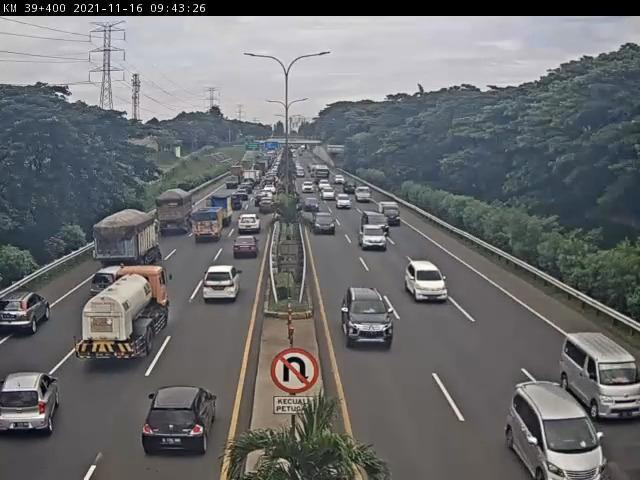car: (496, 369, 607, 480), (552, 322, 640, 431), (134, 379, 234, 463), (1, 362, 69, 441), (338, 285, 402, 354), (2, 277, 57, 351), (399, 257, 452, 305), (201, 263, 246, 312), (87, 257, 132, 302), (357, 225, 395, 258), (227, 236, 263, 267), (359, 211, 395, 240), (229, 215, 271, 239), (379, 198, 408, 225), (77, 242, 102, 273), (312, 206, 339, 233), (255, 194, 280, 218), (303, 191, 324, 213), (352, 184, 375, 202), (331, 188, 352, 207)
truck: (76, 264, 174, 368), (93, 210, 163, 278), (155, 190, 196, 241), (194, 208, 226, 247), (208, 195, 235, 229)
